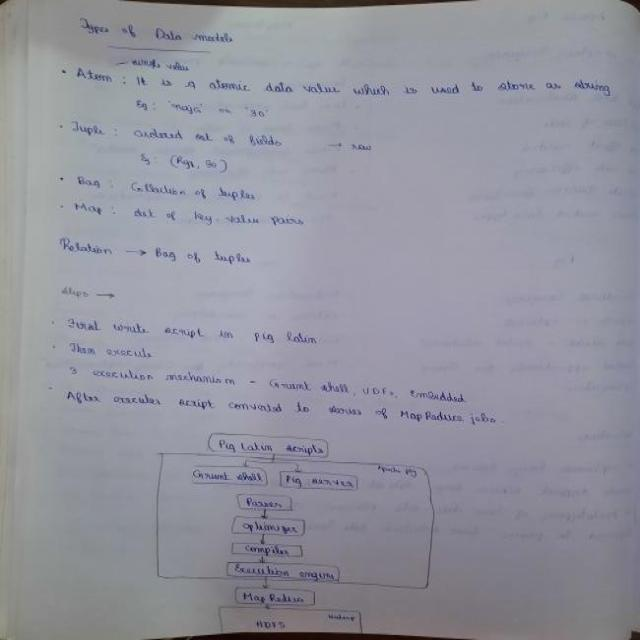Figure Detection - v3 Dataset Version2: (128, 428, 458, 633)
